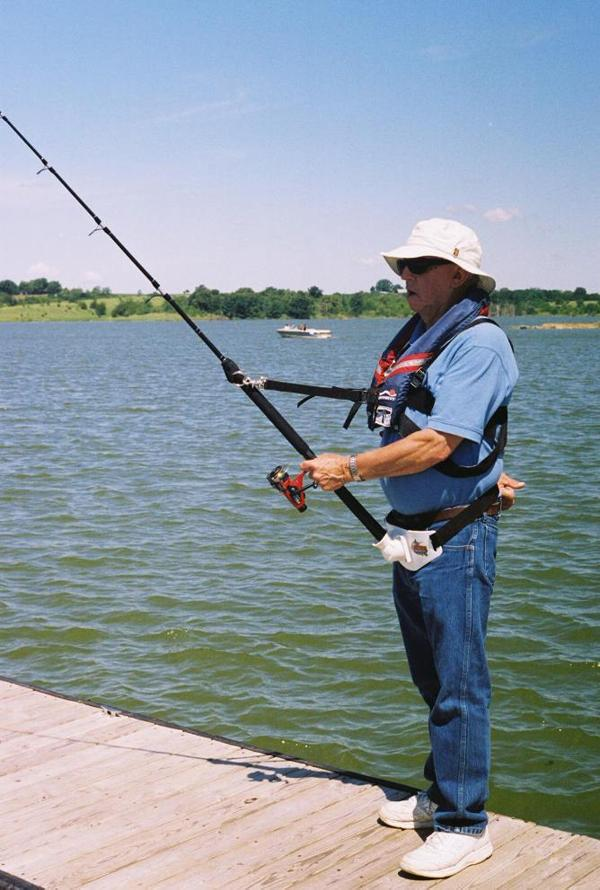person: (297, 215, 525, 886)
